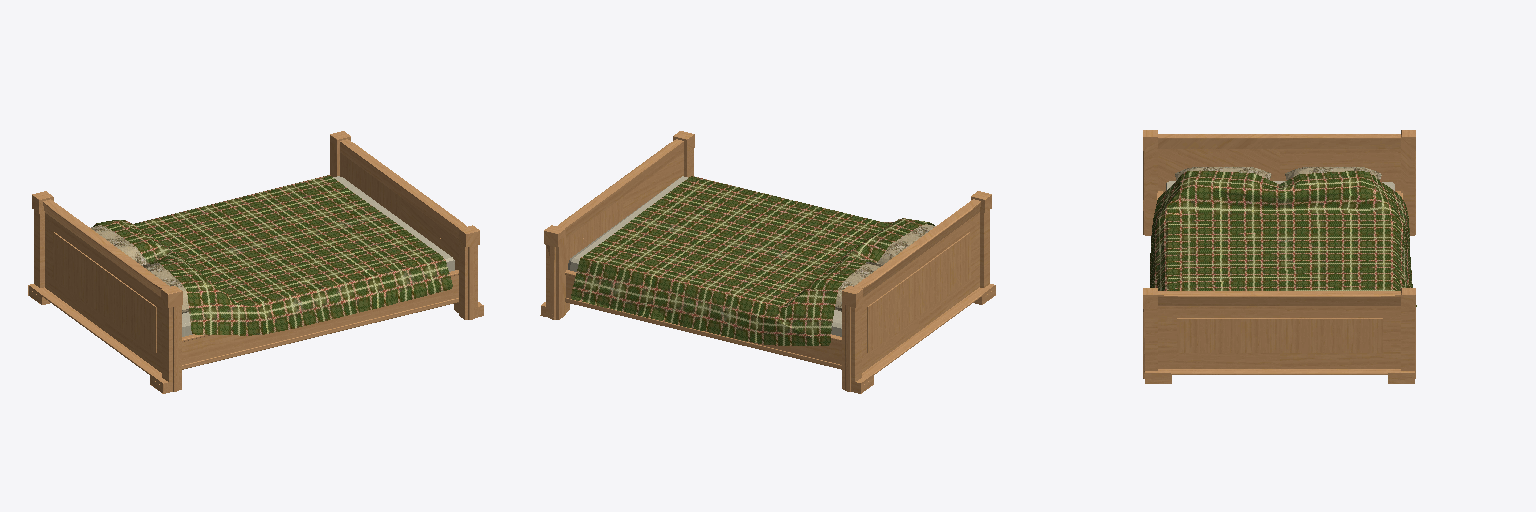
3 views of the same model, side by side, from view 1: azimuth 30°, elevation 25°; view 2: azimuth 150°, elevation 25°; view 3: azimuth 270°, elevation 25° (orthographic).
Parts seen in each view (by area): view 1: covering, body, mattress, pillow_2; view 2: covering, body, mattress, pillow_1, pillow_2; view 3: body, covering, pillow_2.
Boxes of the visible parts, <box> form: covering: <box>93,175,452,335</box>; body: <box>28,131,483,393</box>; mattress: <box>182,176,454,336</box>; pillow_2: <box>91,225,159,267</box>; covering: <box>571,176,934,345</box>; body: <box>540,131,995,393</box>; mattress: <box>568,176,841,336</box>; pillow_1: <box>866,224,935,266</box>; pillow_2: <box>835,263,879,311</box>; body: <box>1143,130,1415,383</box>; covering: <box>1150,171,1416,306</box>; pillow_2: <box>1285,167,1381,179</box>.
Size of the model in its own units: 4.4 by 1.31 by 3.26.
4 materials, 4 textured.